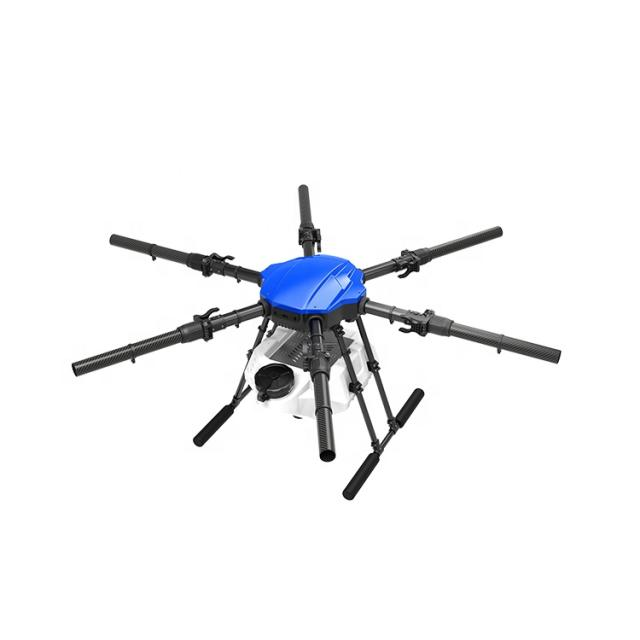drone: (74, 183, 508, 480)
